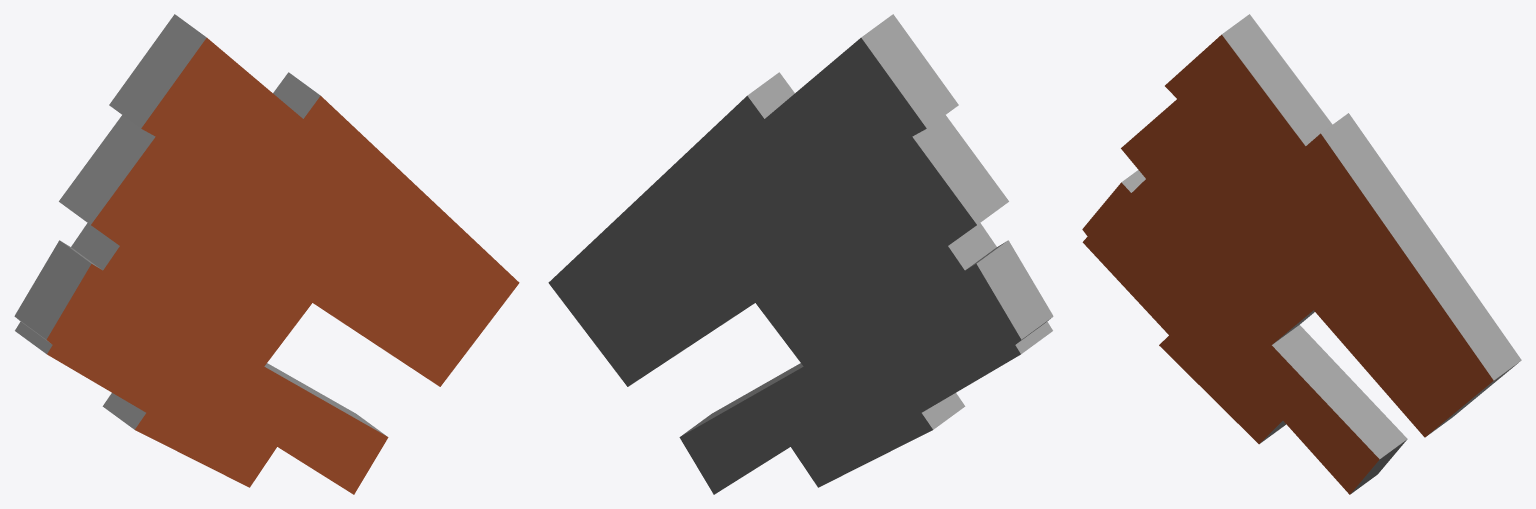
File: construction_7047_assumed_A_Casa_h6m.obj
3 views of the same model, side by side, from view 1: azimuth 30°, elevation 25°; view 2: azimuth 150°, elevation 25°; view 3: azimuth 330°, elevation 25° (orthographic). The views are drawn at different scales.
Visible parts, largest first — view 1: construction_7047_assumed_A_Casa; view 2: construction_7047_assumed_A_Casa; view 3: construction_7047_assumed_A_Casa.
Boxes of the visible parts, x1,y1,x2,y2 form: construction_7047_assumed_A_Casa: (14,14,519,494); construction_7047_assumed_A_Casa: (548,14,1053,494); construction_7047_assumed_A_Casa: (1082,14,1521,494).
Size of the model in its own units: 50.98 by 50.81 by 6.
